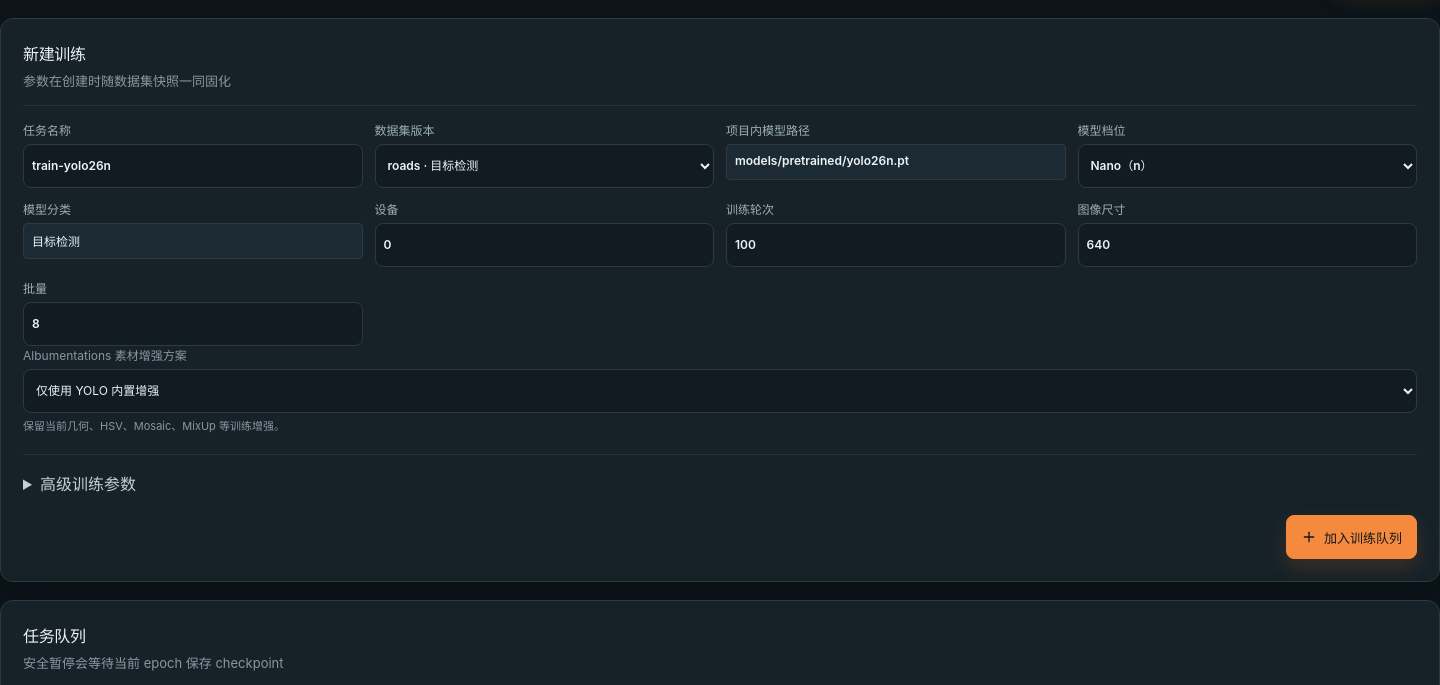
Test: TrainingPage › explains advanced fields and blocks an empty numeric value before submission
Click the heading "高级训练参数" at (88, 484), box top-left (40, 474), bottom-right (136, 494)
(page scrolled)
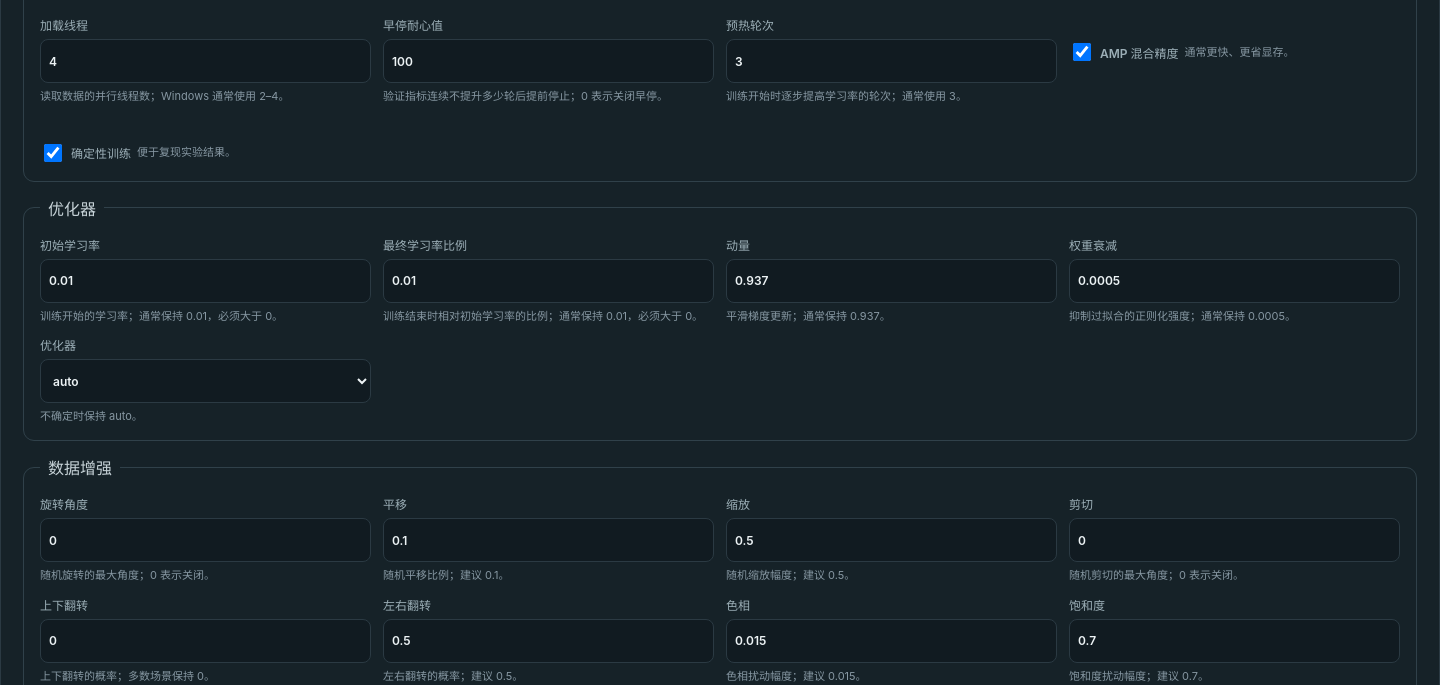
Check: the text "训练开始的学习率；通常保持 0.01，必须大于 0。" is shown, box top-left (40, 309), bottom-right (283, 323)
Clear the number field labelled "初始学习率" at (206, 281), box top-left (40, 259), bottom-right (371, 303)
(page scrolled)
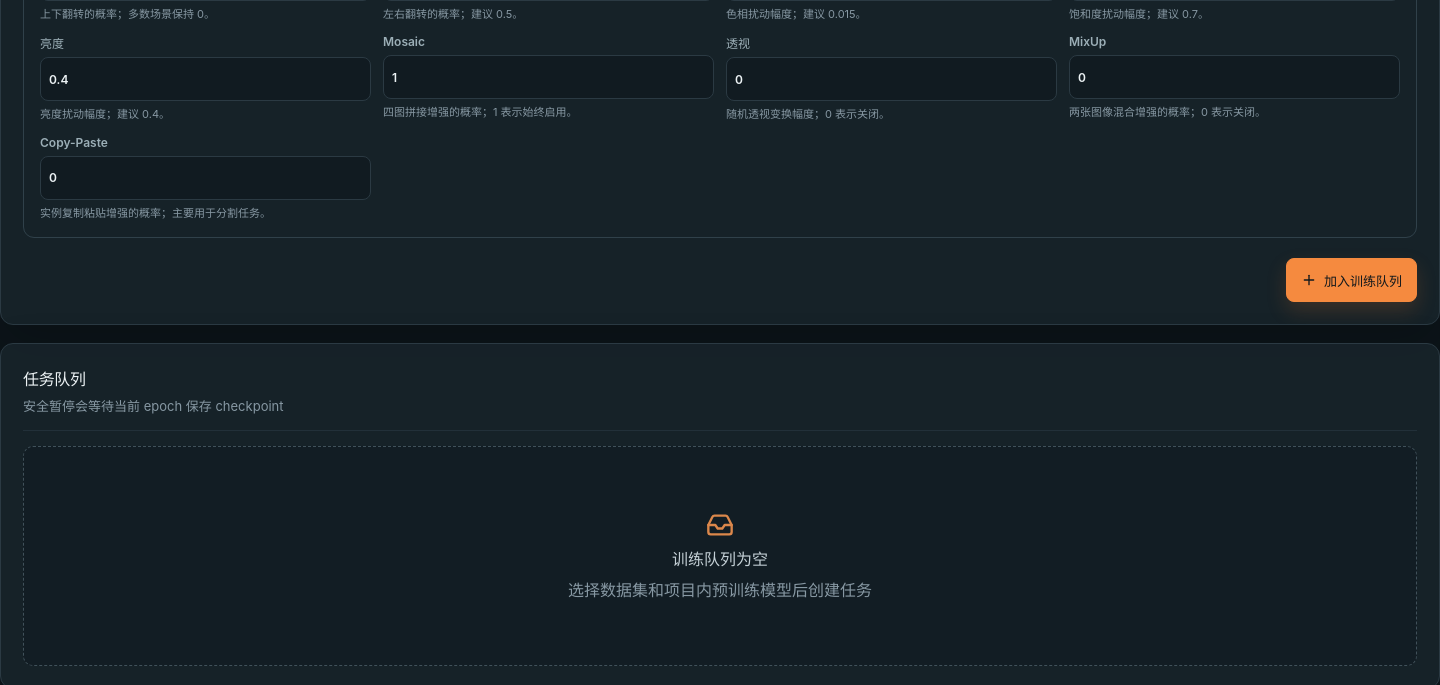
Click the button "加入训练队列" at (1352, 280), box top-left (1286, 258), bottom-right (1417, 302)
(page scrolled)
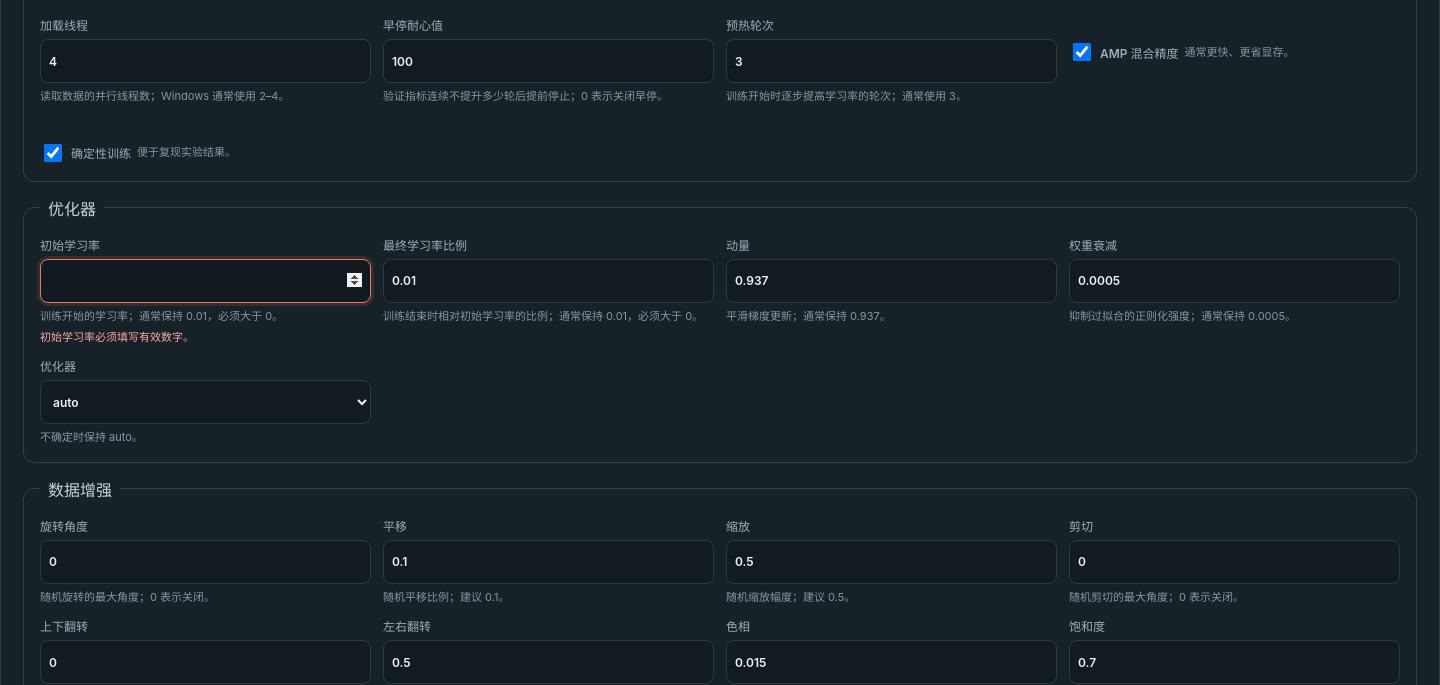
Check: the text "初始学习率必须填写有效数字。" is shown, box top-left (40, 330), bottom-right (194, 344)
